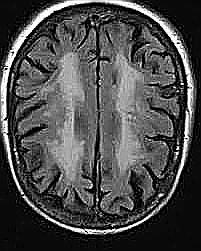Normal_Brain: (1, 1, 201, 251)
